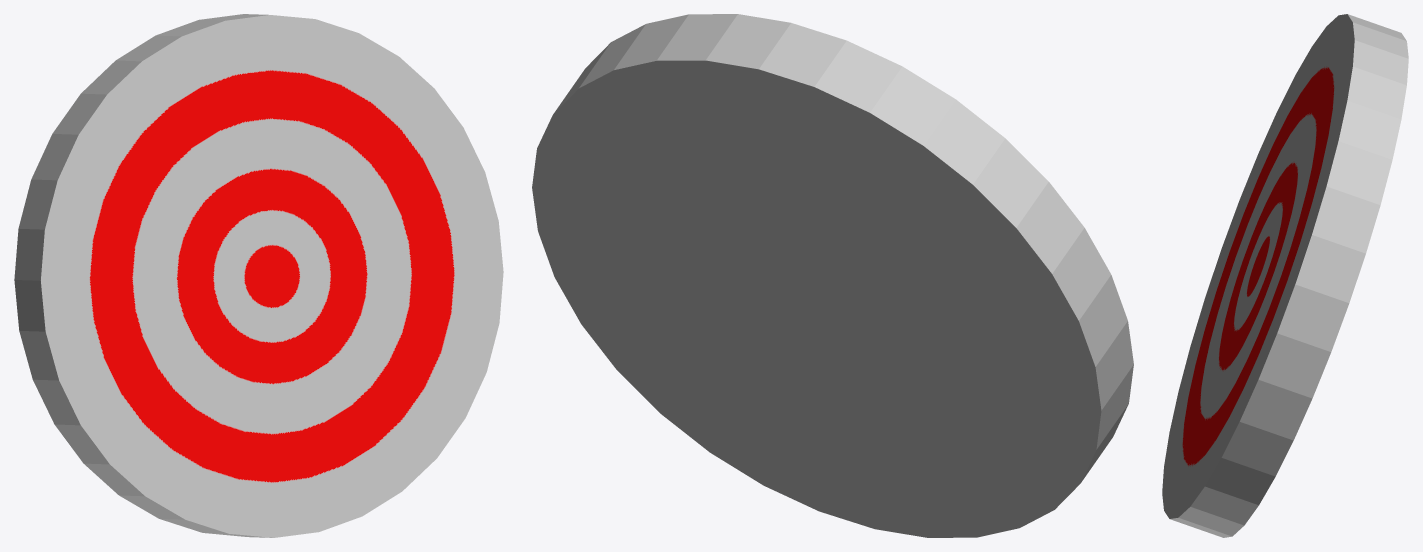
Rendered from target.fbx.
The picture shows the model from 3 angles, left to right: view 1: azimuth 30°, elevation 25°; view 2: azimuth 150°, elevation 25°; view 3: azimuth 270°, elevation 25°; orthographic projection. The views are drawn at different scales.
Parts seen in each view (by area): view 1: Circle; view 2: Circle; view 3: Circle.
Part boxes in pixels (x1,y1,x2,y2): Circle: (14, 14, 503, 537); Circle: (532, 14, 1133, 537); Circle: (1162, 14, 1408, 537).
Bounding box in the file's own units: 223 × 217 × 103.
